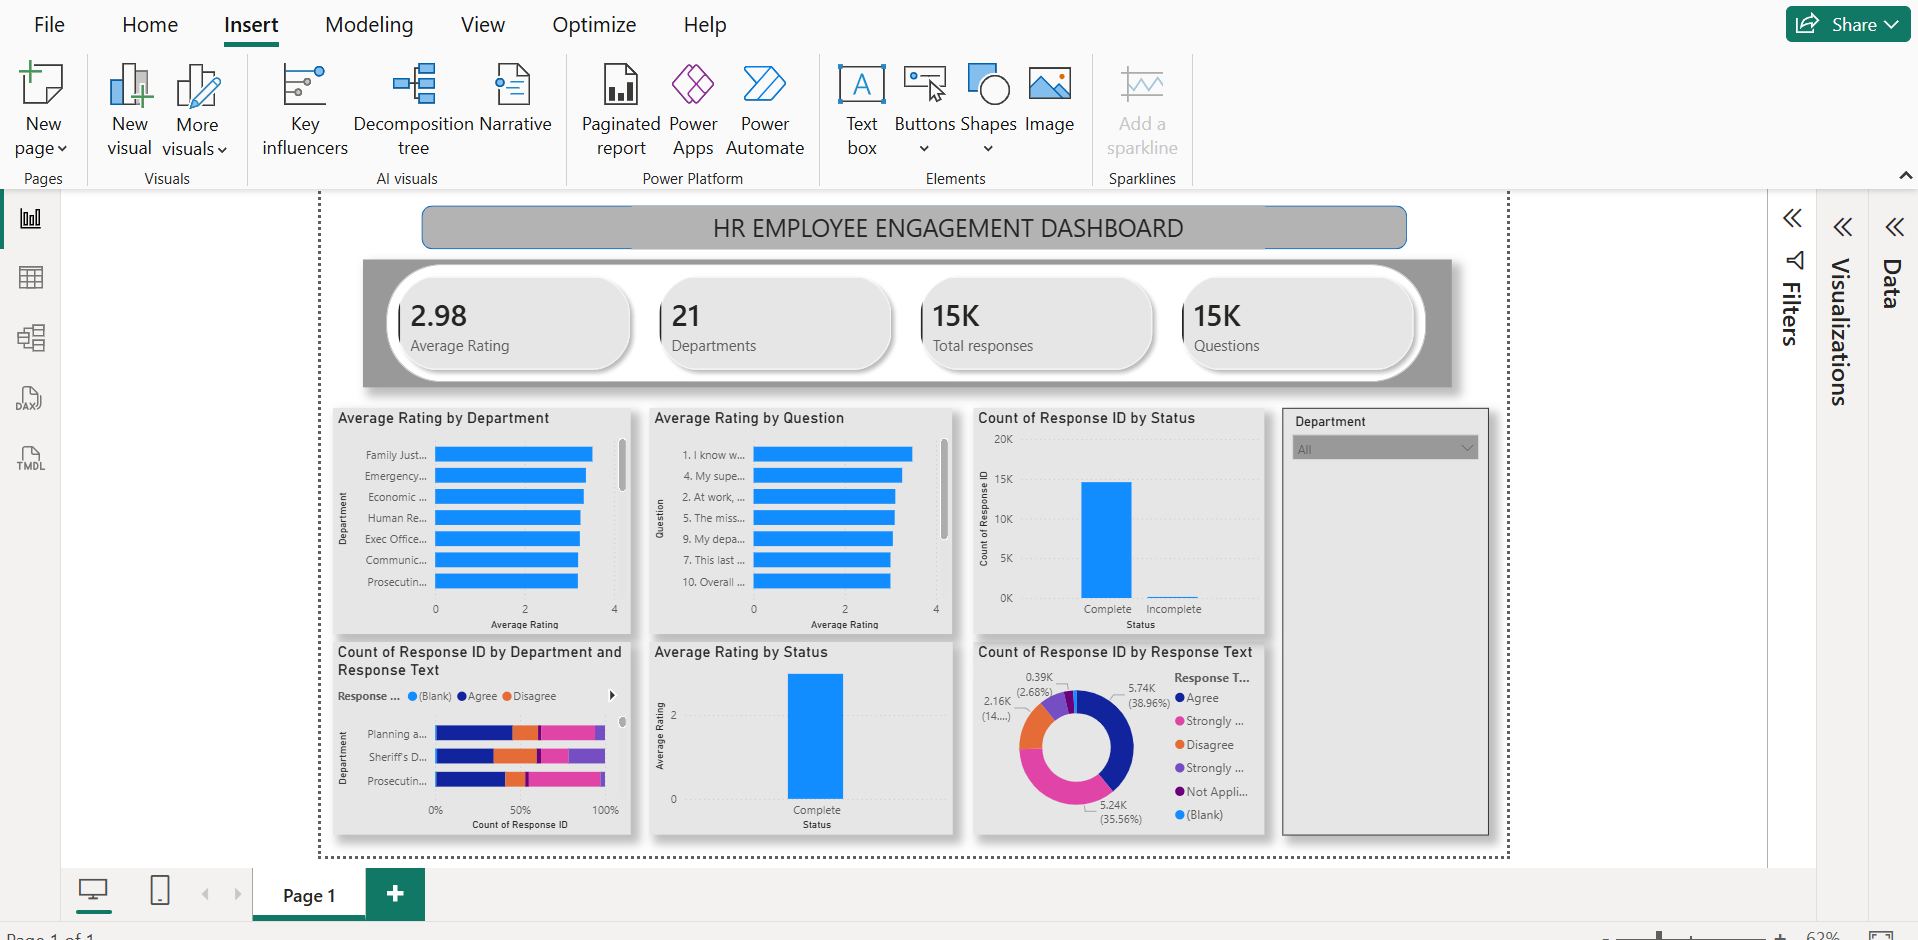

This screenshot's page, from the dashboard's own definition file:
{"tool":"powerbi","page":{"name":"Page 1","canvas":[1280,720],"ordinal":0},"visuals":[{"type":"clusteredBarChart","fields":{"Category":["HR Survey Reponses.Department"],"Y":["HR Survey Reponses.Average Rating"]},"box":[13.2,236.2,321.3,243.8],"z":0},{"type":"clusteredBarChart","fields":{"Category":["HR Survey Reponses.Question"],"Y":["HR Survey Reponses.Average Rating"]},"box":[355.3,236.2,326.9,243.8],"z":1000},{"type":"donutChart","fields":{"Category":["HR Survey Reponses.Response Text"],"Y":["CountNonNull(HR Survey Reponses.Response ID)"]},"box":[704.9,489.5,313.7,207.9],"z":2000},{"type":"columnChart","fields":{"Category":["HR Survey Reponses.Status"],"Y":["CountNonNull(HR Survey Reponses.Response ID)"]},"box":[704.9,236.2,313.7,243.8],"z":3000},{"type":"slicer","fields":{"Values":["HR Survey Reponses.Department"]},"box":[1037.5,236.2,223,461.1],"z":6000},{"type":"cardVisual","fields":{"Data":["HR Survey Reponses.Average Rating","HR Survey Reponses.Departments","HR Survey Reponses.Total responses","HR Survey Reponses.Questions"]},"box":[45.4,75.6,1175.4,138],"z":7000},{"type":"shape","box":[107.7,17,1063.9,47.2],"z":7001},{"type":"textbox","box":[334.5,17,684.1,47.2],"z":7002},{"type":"hundredPercentStackedBarChart","fields":{"Category":["HR Survey Reponses.Department"],"Y":["CountNonNull(HR Survey Reponses.Response ID)"],"Series":["HR Survey Reponses.Response Text"]},"box":[13.2,489.5,321.3,207.9],"z":7003},{"type":"columnChart","fields":{"Category":["HR Survey Reponses.Status"],"Y":["HR Survey Reponses.Average Rating"]},"box":[355,489,327,208],"z":7004}]}

Visuals, with their boxes on the page's 1280x720 design canvas (x1, y1, x2, y2). These are canvas units, not pixel positions in the 1918x940 screenshot, which may show the page scaled, cropped or inside an application window:
clusteredBarChart - HR Survey Reponses.Department x HR Survey Reponses.Average Rating: (13,236,334,480)
clusteredBarChart - HR Survey Reponses.Question x HR Survey Reponses.Average Rating: (355,236,682,480)
donutChart - HR Survey Reponses.Response Text x CountNonNull(HR Survey Reponses.Response ID): (705,490,1019,697)
columnChart - HR Survey Reponses.Status x CountNonNull(HR Survey Reponses.Response ID): (705,236,1019,480)
slicer - HR Survey Reponses.Department: (1038,236,1260,697)
cardVisual - HR Survey Reponses.Average Rating x HR Survey Reponses.Departments: (45,76,1221,214)
shape: (108,17,1172,64)
textbox: (334,17,1019,64)
hundredPercentStackedBarChart - HR Survey Reponses.Department x CountNonNull(HR Survey Reponses.Response ID): (13,490,334,697)
columnChart - HR Survey Reponses.Status x HR Survey Reponses.Average Rating: (355,489,682,697)
